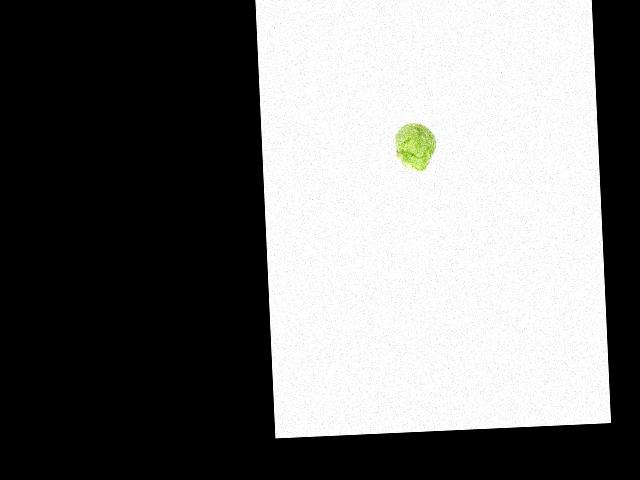lettuce: (394, 117, 441, 177)
